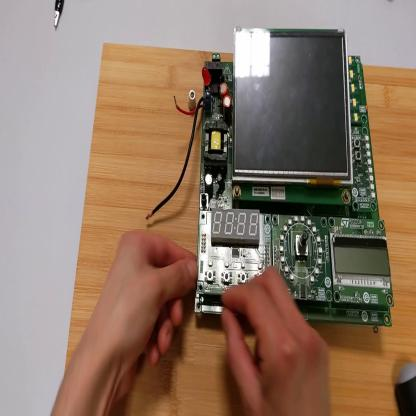hand: (89, 229, 198, 399), (221, 264, 332, 415)
low voltage board: (146, 25, 396, 329)
screwdriver-: (395, 365, 415, 414)
working area: (69, 37, 415, 415)
